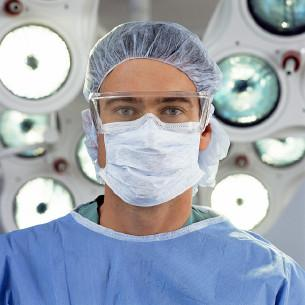OK: (86, 84, 210, 208)
